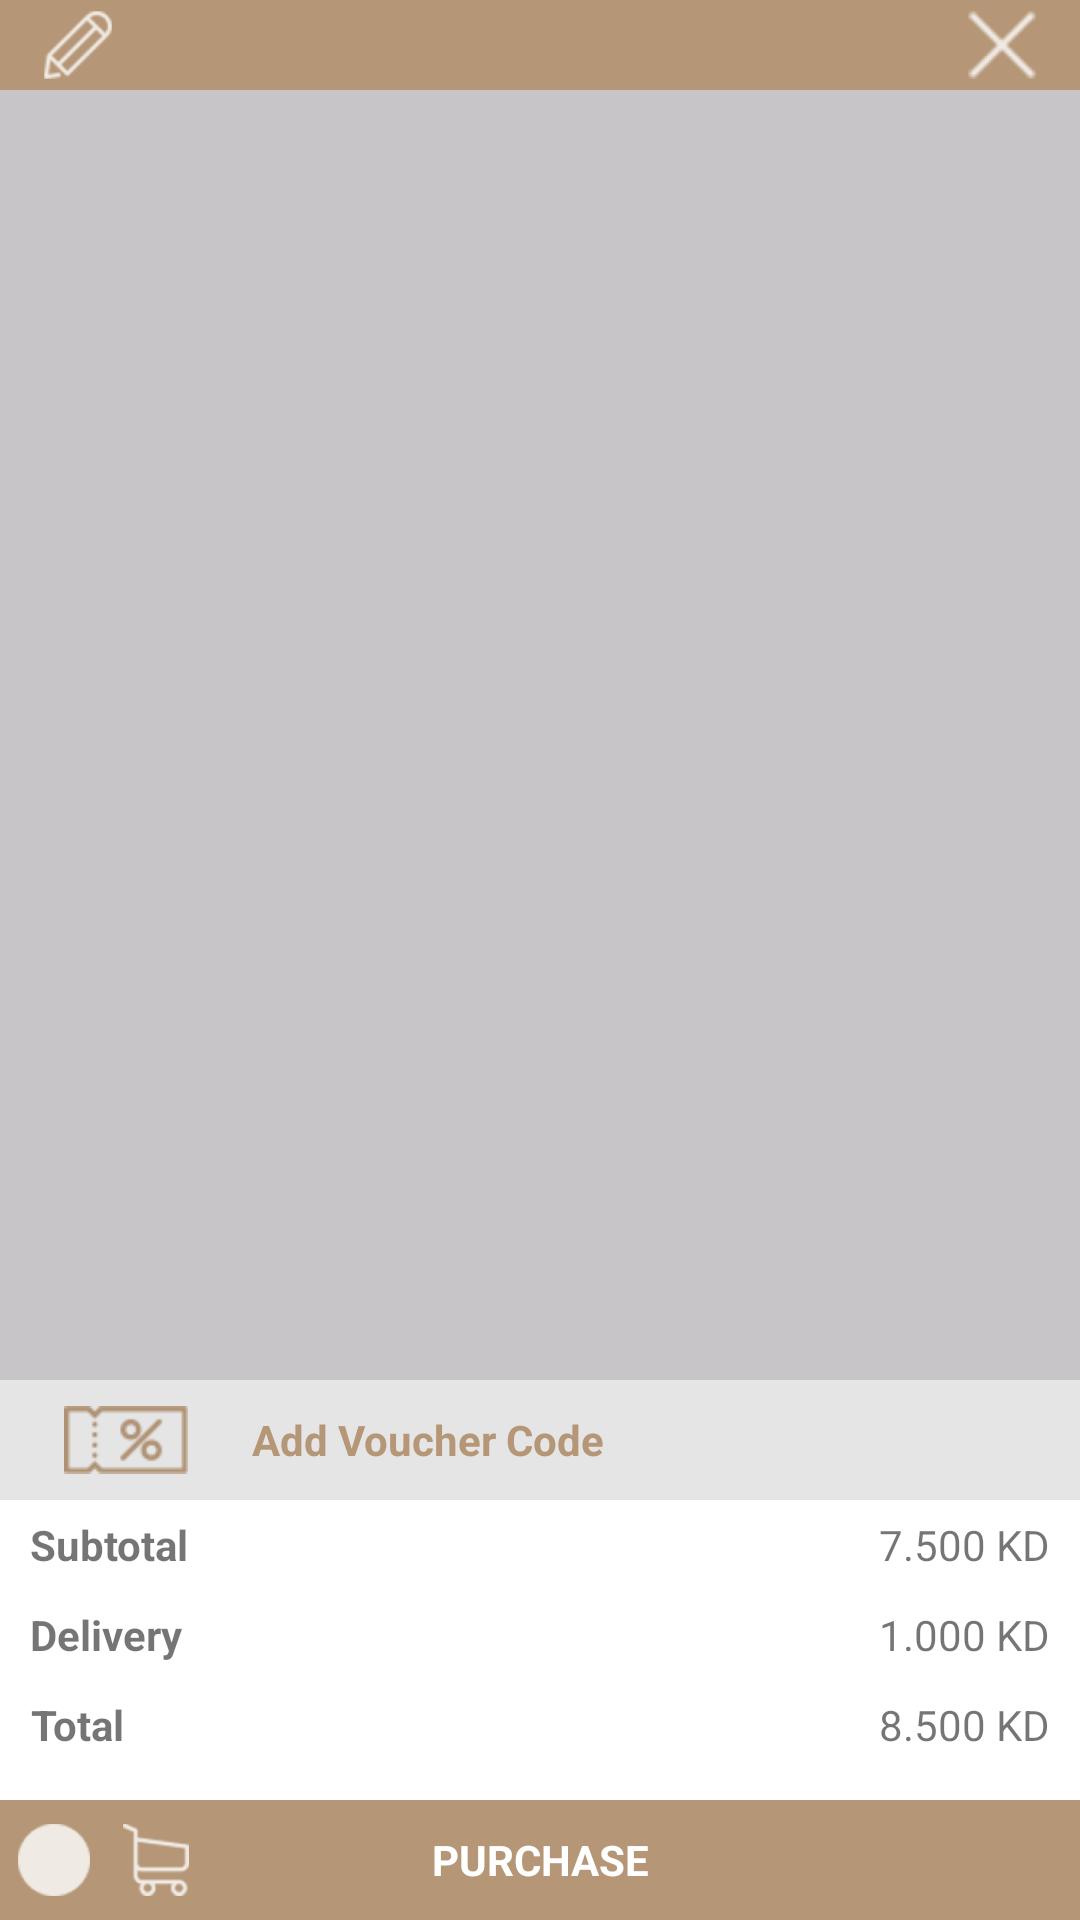

Icons on this 1080x1920 Android screen, each with the point to tap as (x,y):
cart: (156,1860)
close: (1002,45)
edit: (78,45)
